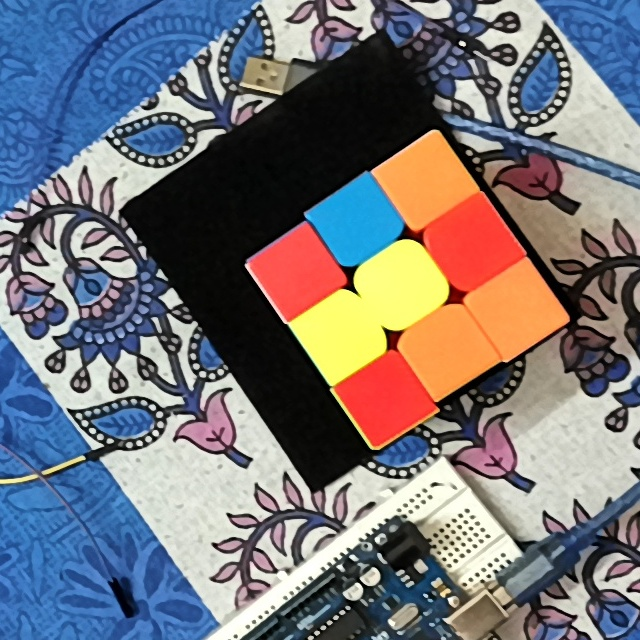tile: (490, 281, 546, 333), (315, 307, 368, 361), (355, 373, 410, 425), (448, 217, 500, 271), (425, 321, 475, 377), (400, 157, 453, 207), (267, 248, 320, 298), (334, 199, 384, 250), (379, 260, 424, 312)
